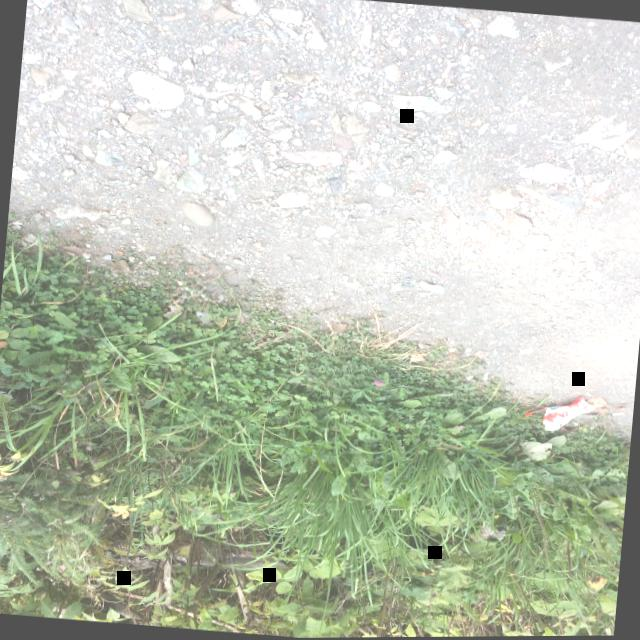Cigarette: (270, 142, 276, 155)
Other plastic: (524, 397, 594, 431)
